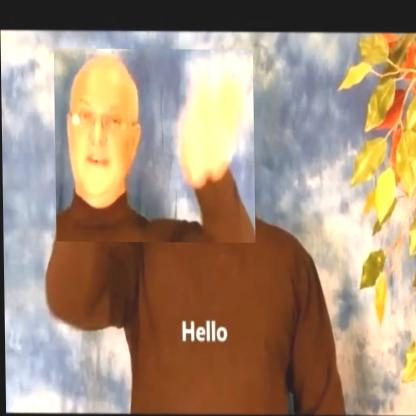Hello: (54, 48, 255, 242)
